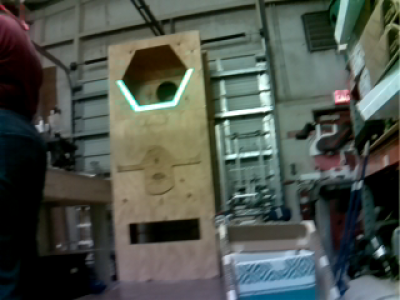target: (117, 67, 194, 112)
